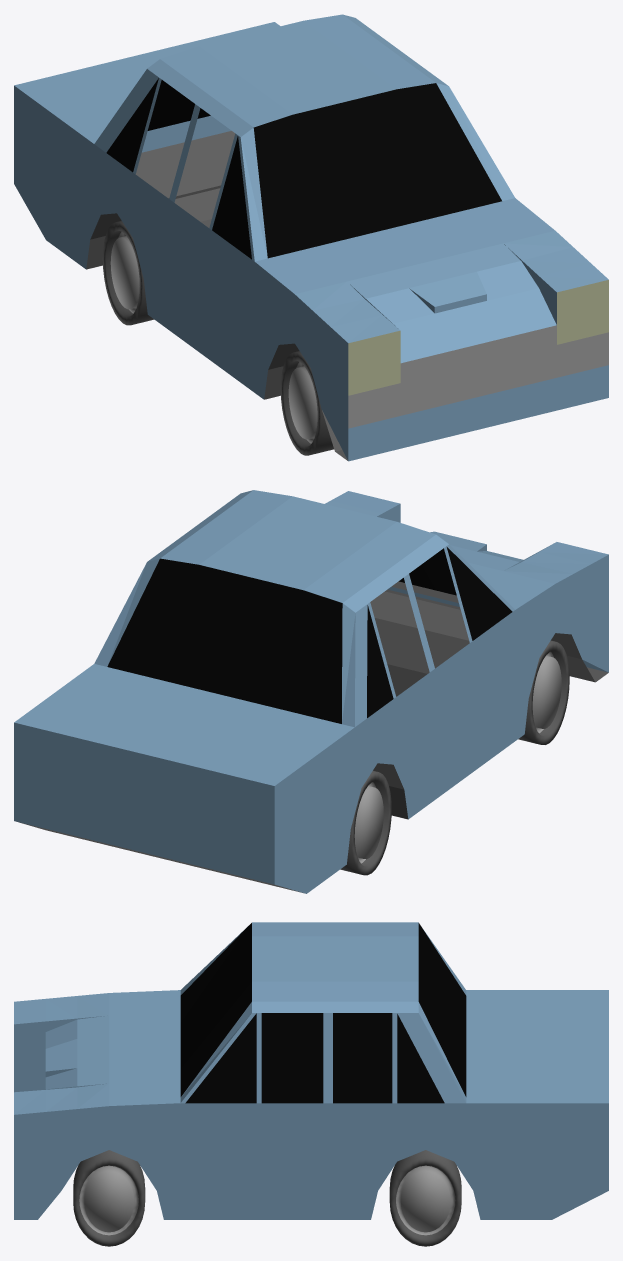
Rendered from cortina-mk1.dae.
The picture shows the model from 3 angles, top to bottom: view 1: azimuth 30°, elevation 25°; view 2: azimuth 150°, elevation 25°; view 3: azimuth 270°, elevation 25°; orthographic projection. The views are drawn at different scales.
Visible parts, largest first — view 1: Cube_001; view 2: Cube_001; view 3: Cube_001.
Part boxes in pixels (x1=…): Cube_001: x1=14, y1=14, x2=608, y2=461; Cube_001: x1=14, y1=490, x2=608, y2=893; Cube_001: x1=14, y1=922, x2=608, y2=1246.
Size of the model in its own units: 1.08 by 2.4 by 1.04.
